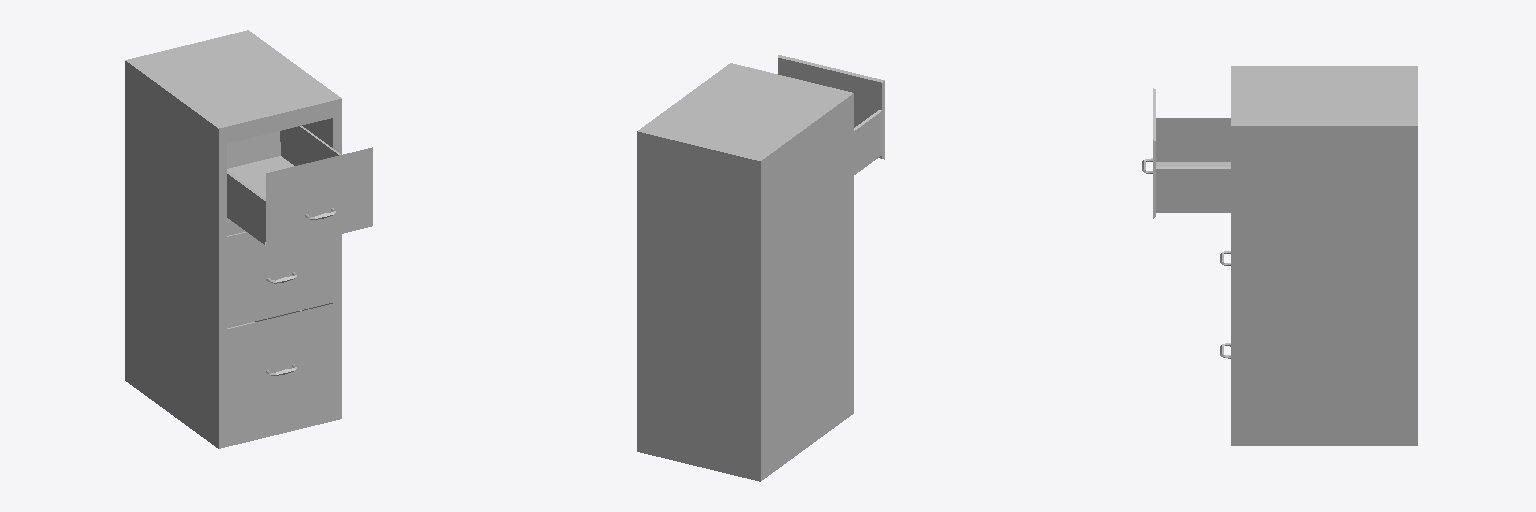
Rendered from file_cabinet_open.obj.
The picture shows the model from 3 angles: view 1: azimuth 30°, elevation 25°; view 2: azimuth 150°, elevation 25°; view 3: azimuth 270°, elevation 25°; orthographic projection.
Visible parts, largest first — view 1: metal_file_cabinet_metal_file_cabinet.001; view 2: metal_file_cabinet_metal_file_cabinet.001; view 3: metal_file_cabinet_metal_file_cabinet.001.
Part boxes in pixels (bbox=[...]): metal_file_cabinet_metal_file_cabinet.001: bbox=[125, 30, 372, 448]; metal_file_cabinet_metal_file_cabinet.001: bbox=[637, 55, 884, 481]; metal_file_cabinet_metal_file_cabinet.001: bbox=[1142, 66, 1417, 445].
Bounding box in the file's own units: 0.4899 × 1.22 × 0.951.